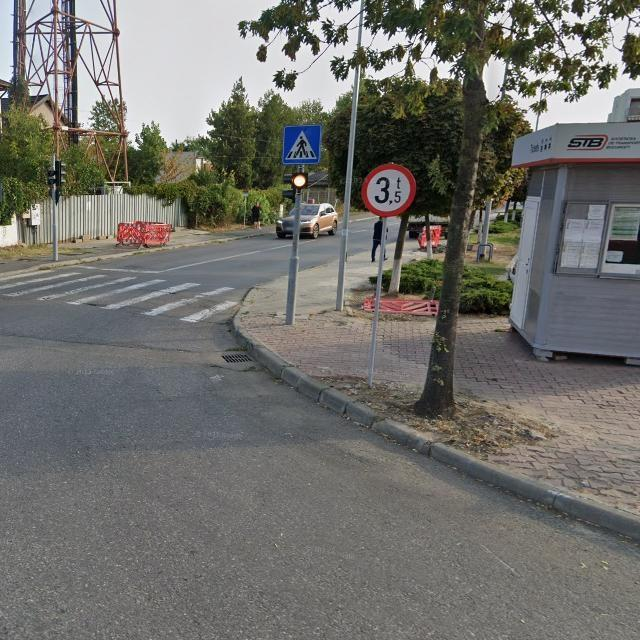info_crosswalk: (283, 124, 322, 164)
